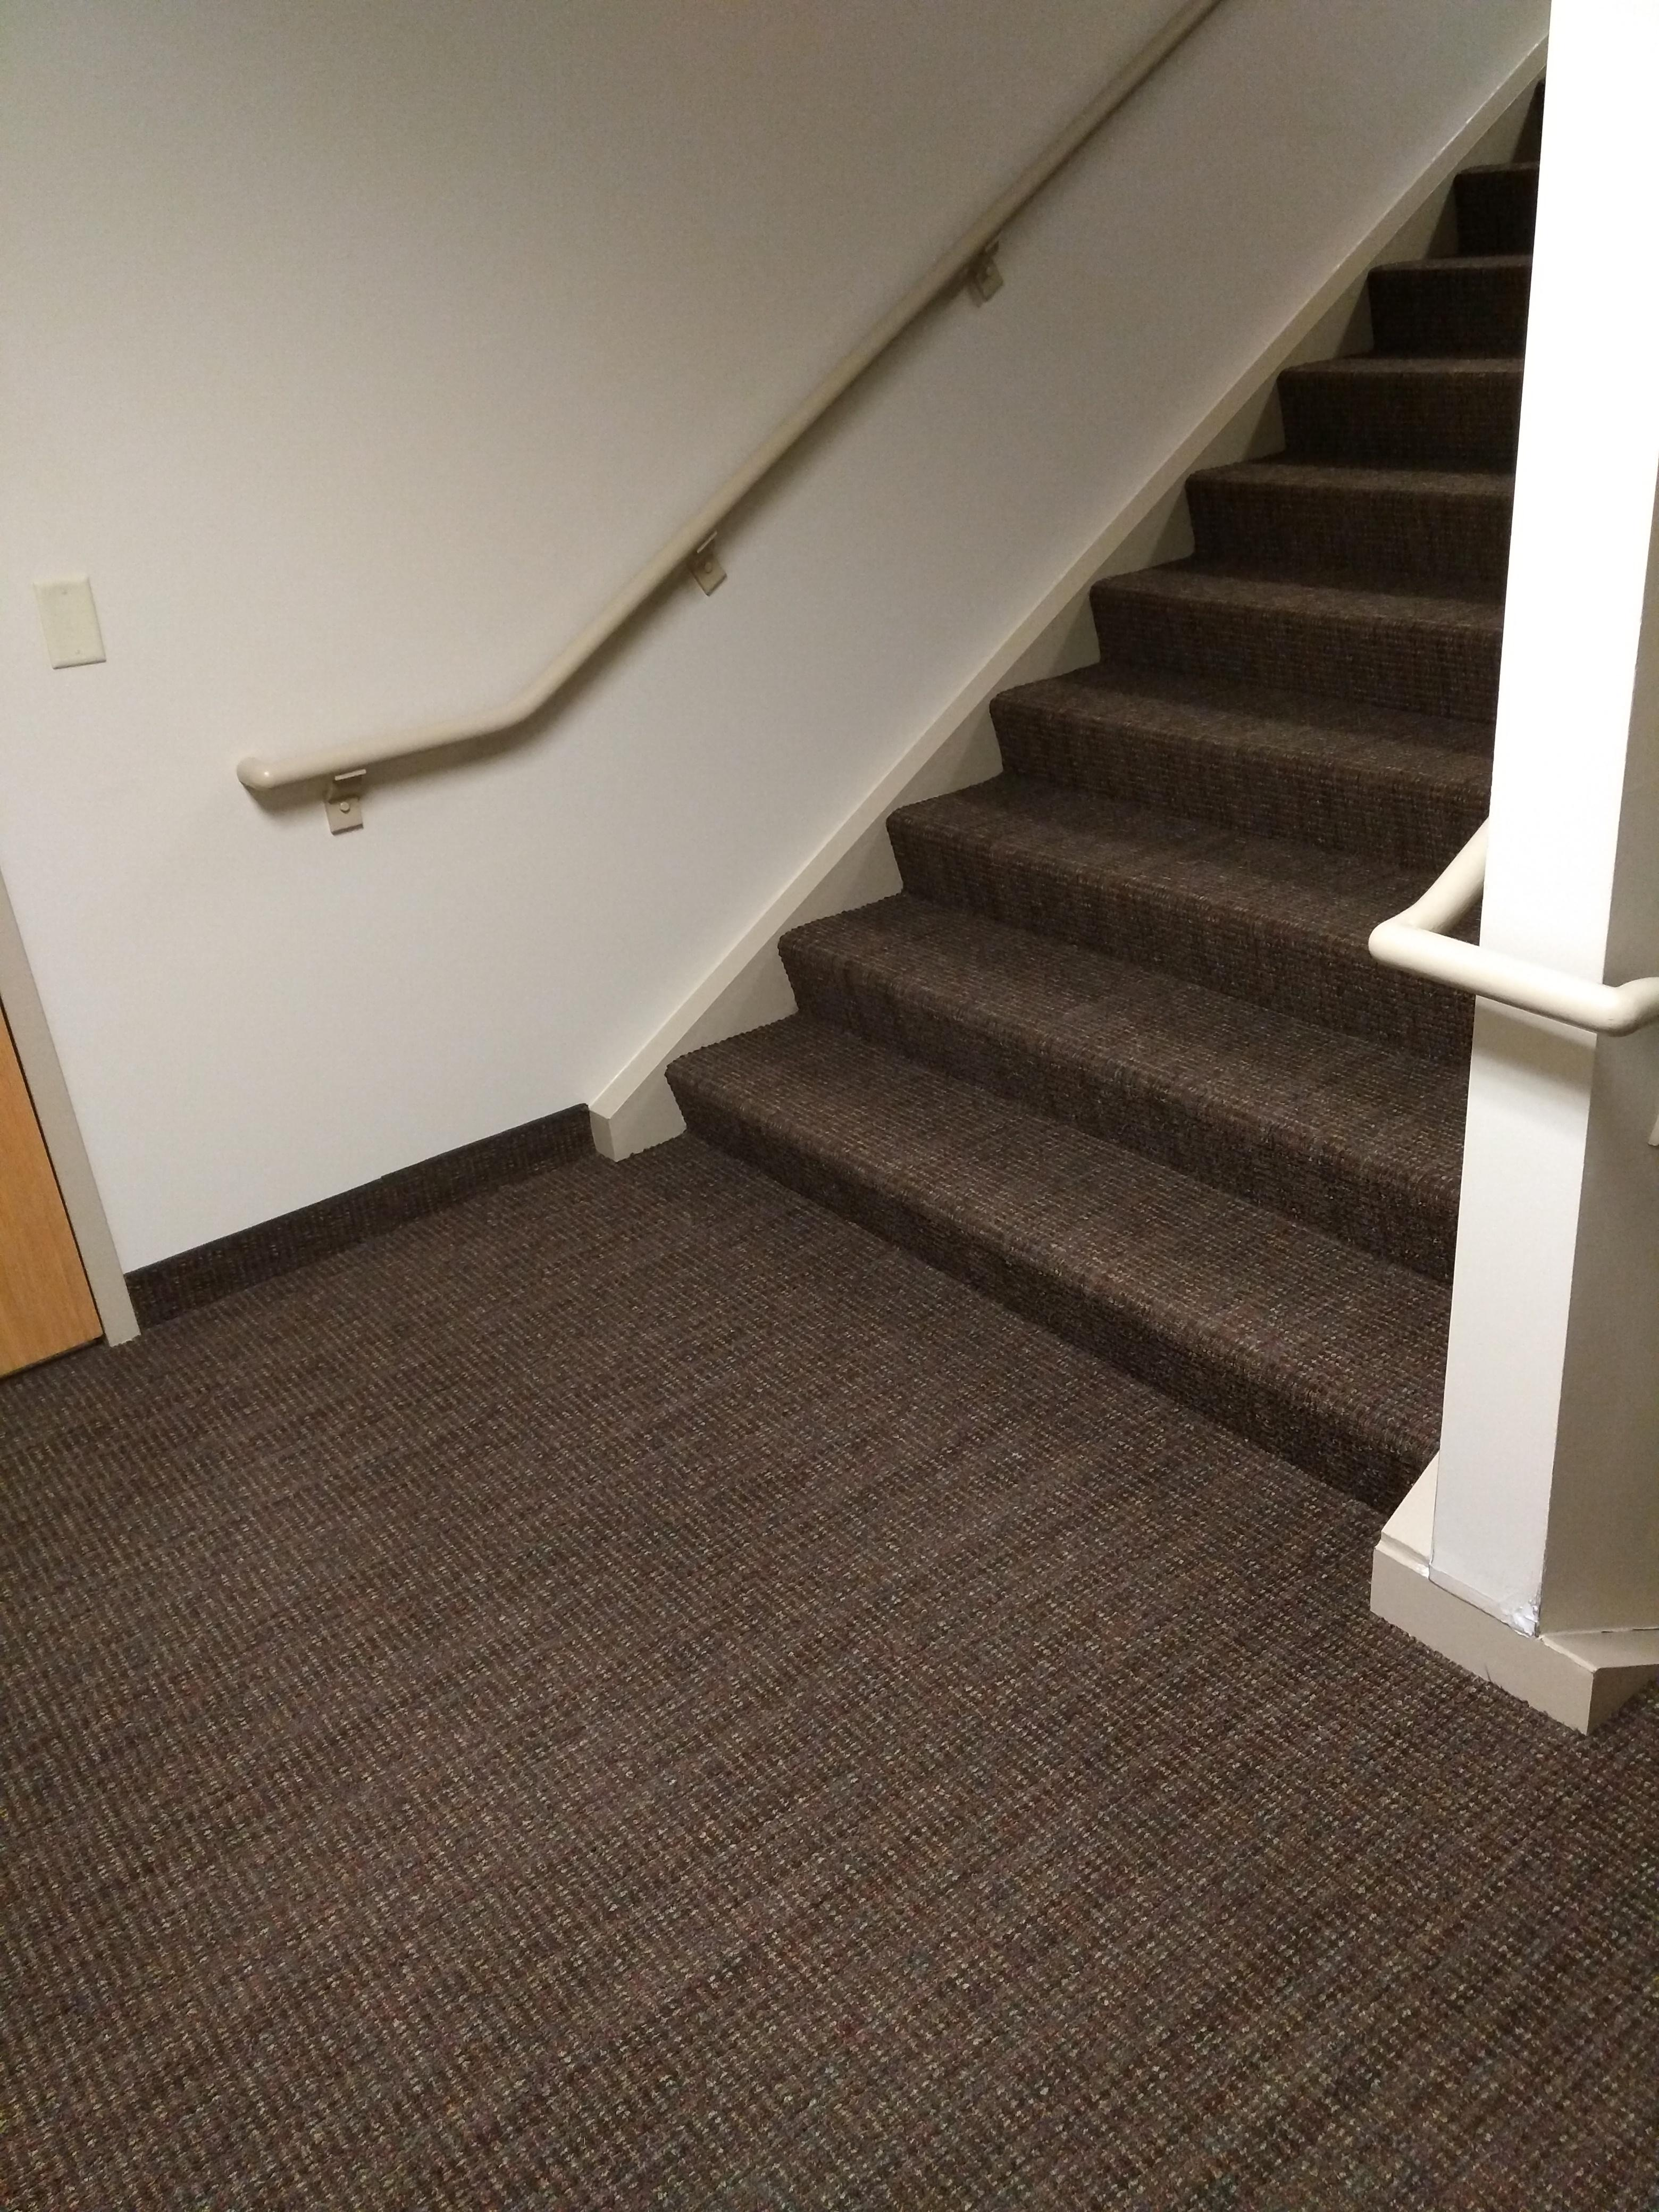stairs_up: (566, 99, 1537, 1545)
